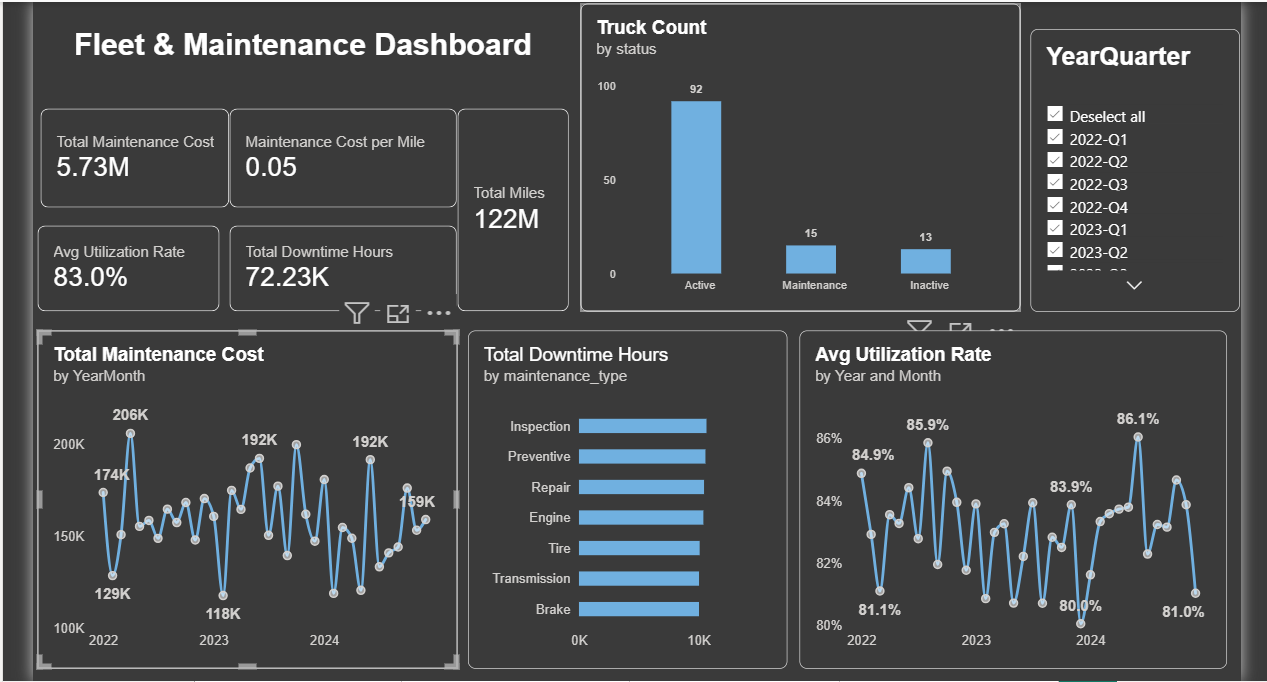

What the dashboard file says about the page in this screenshot:
{"tool":"powerbi","page":{"name":"Fleet & Maintenance","canvas":[1280,720],"ordinal":1},"visuals":[{"type":"cardVisual","fields":{"Data":["customers.Maintenance Cost per Mile"]},"box":[208.3,113.3,241.7,105],"z":0},{"type":"cardVisual","fields":{"Data":["customers.Total Downtime Hours"]},"box":[208.3,236.7,241.7,91.7],"z":1000},{"type":"cardVisual","fields":{"Data":["customers.Total Maintenance Cost"]},"box":[8.3,113.3,200,105],"z":2000},{"type":"cardVisual","fields":{"Data":["customers.Total Miles"]},"box":[450,113.3,118.3,215],"z":3000},{"type":"lineChart","fields":{"Category":["date_dim.YearMonth"],"Y":["customers.Total Maintenance Cost"]},"box":[5,348.3,445,358.3],"z":4000},{"type":"columnChart","fields":{"Category":["trucks.status"],"Y":["customers.Truck Count"]},"box":[580,1.7,466.7,326.7],"z":5000},{"type":"clusteredBarChart","fields":{"Category":["maintenance_records.maintenance_type"],"Y":["customers.Total Downtime Hours"]},"box":[461.7,348.3,338.3,358.3],"z":6000},{"type":"textbox","box":[5,11.7,563.3,86.7],"z":7000},{"type":"cardVisual","fields":{"Data":["customers.Avg Utilization Rate"]},"box":[5,236.7,193.3,91.7],"z":8000},{"type":"lineChart","fields":{"Category":["truck_utilization_metrics.month.Variation.Date Hierarchy.Year","truck_utilization_metrics.month.Variation.Date Hierarchy.Month"],"Y":["customers.Avg Utilization Rate"]},"box":[813.3,348.3,453.3,358.3],"z":9000},{"type":"listSlicer","fields":{"Values":["date_dim.YearQuarter"]},"box":[1058.3,28.3,221.7,300],"z":10000}]}

Visuals, with their boxes on the page's 1280x720 design canvas (x1, y1, x2, y2). These are canvas units, not pixel positions in the 1267x682 screenshot, which may show the page scaled, cropped or inside an application window:
cardVisual - customers.Maintenance Cost per Mile: pyautogui.locateOnScreen(208, 113, 450, 218)
cardVisual - customers.Total Downtime Hours: pyautogui.locateOnScreen(208, 237, 450, 328)
cardVisual - customers.Total Maintenance Cost: pyautogui.locateOnScreen(8, 113, 208, 218)
cardVisual - customers.Total Miles: pyautogui.locateOnScreen(450, 113, 568, 328)
lineChart - date_dim.YearMonth x customers.Total Maintenance Cost: pyautogui.locateOnScreen(5, 348, 450, 707)
columnChart - trucks.status x customers.Truck Count: pyautogui.locateOnScreen(580, 2, 1047, 328)
clusteredBarChart - maintenance_records.maintenance_type x customers.Total Downtime Hours: pyautogui.locateOnScreen(462, 348, 800, 707)
textbox: pyautogui.locateOnScreen(5, 12, 568, 98)
cardVisual - customers.Avg Utilization Rate: pyautogui.locateOnScreen(5, 237, 198, 328)
lineChart - truck_utilization_metrics.month.Variation.Date Hierarchy.Year x truck_utilization_metrics.month.Variation.Date Hierarchy.Month: pyautogui.locateOnScreen(813, 348, 1267, 707)
listSlicer - date_dim.YearQuarter: pyautogui.locateOnScreen(1058, 28, 1280, 328)
